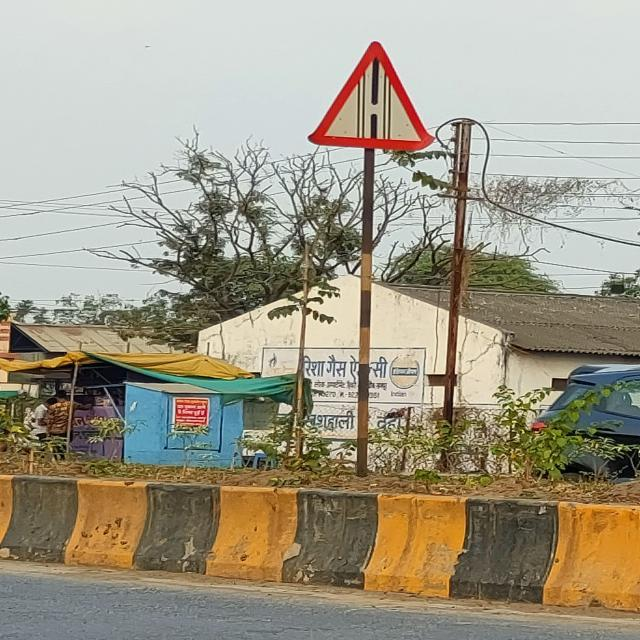gap in median: (305, 36, 441, 154)
